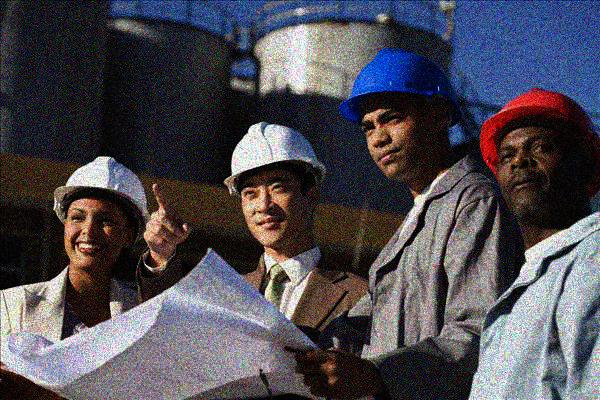helmet: (333, 50, 464, 180), (476, 89, 600, 217), (219, 120, 329, 249), (53, 153, 153, 274)
